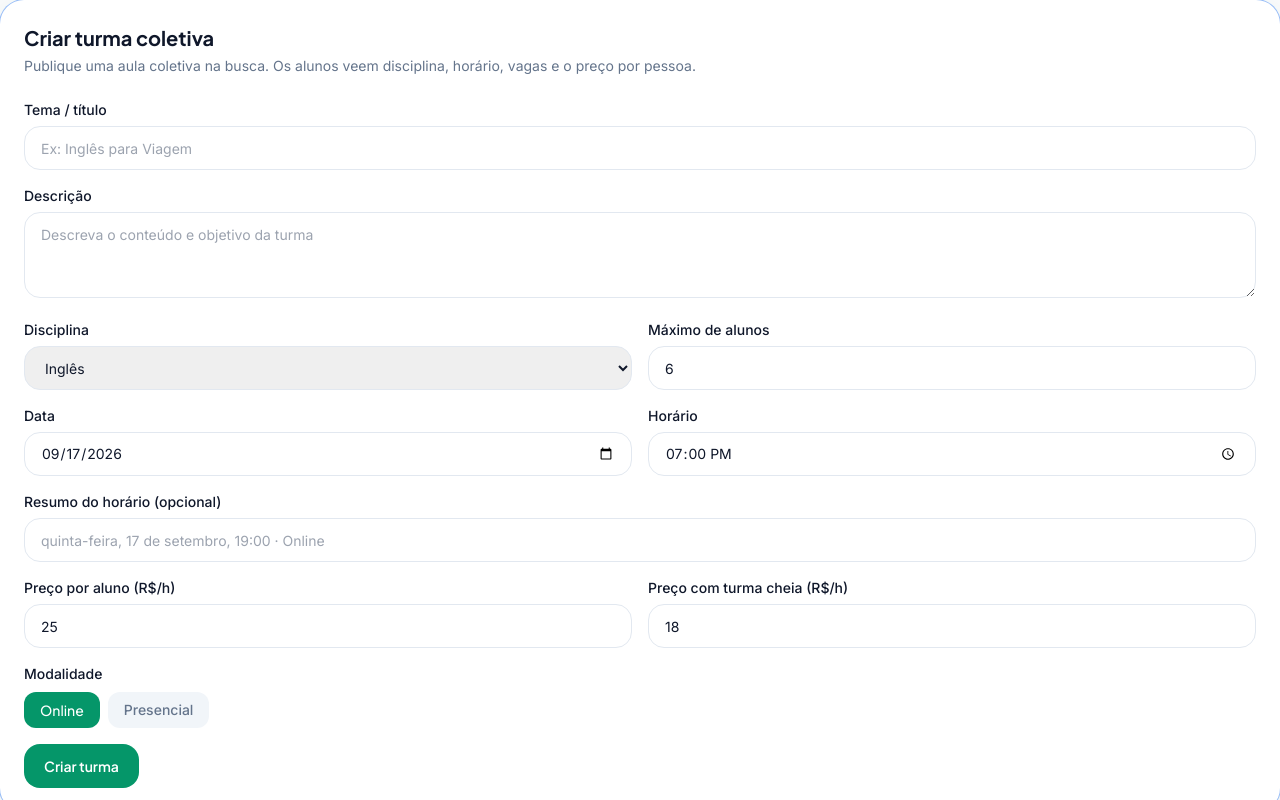
Test case: CreateHubForm › rejects a class size outside the 2–20 range
This screenshot has width=1280, height=800.
Type "Inglês para Viagem" into the field labelled "Tema / título". click: (640, 148)
box: [24,126,1256,170]
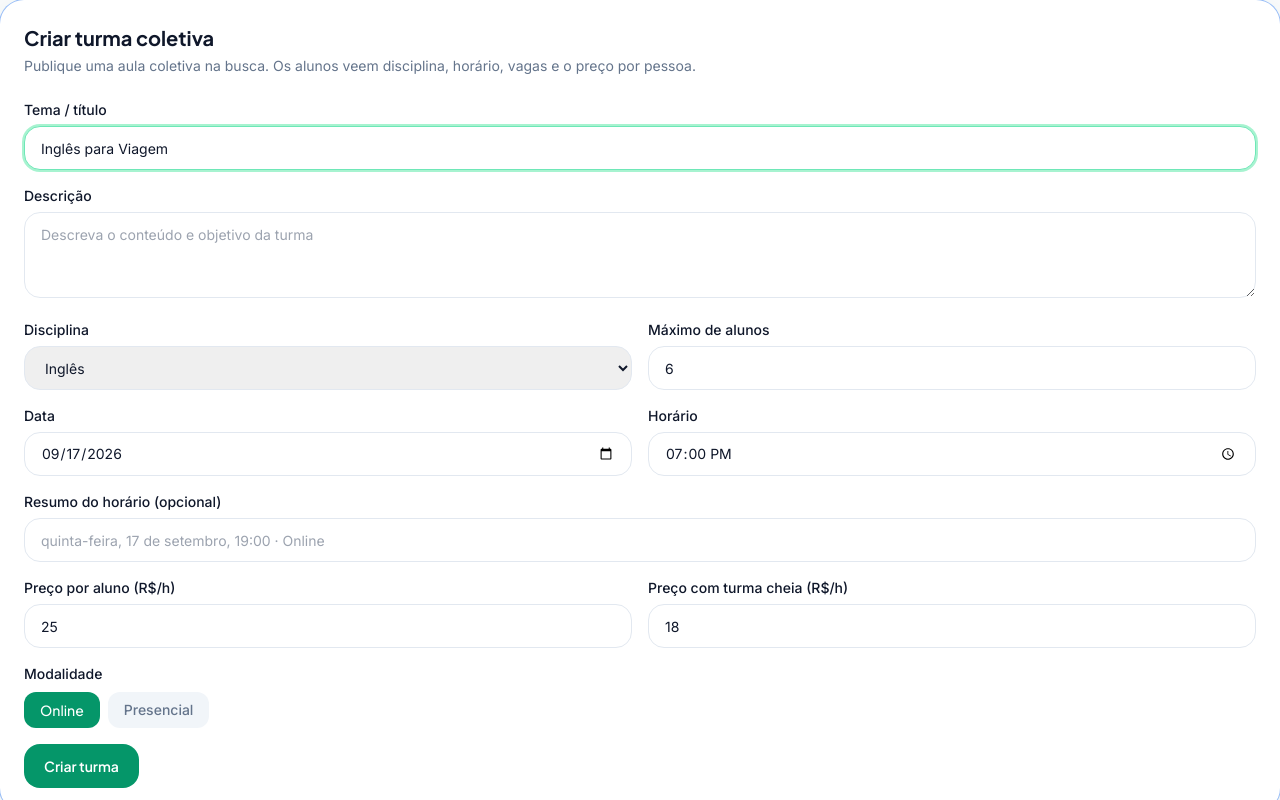
Type "Frases essenciais para aeroporto e hotel." into the text box labelled "Descrição". click: (640, 255)
box: [24,212,1256,298]
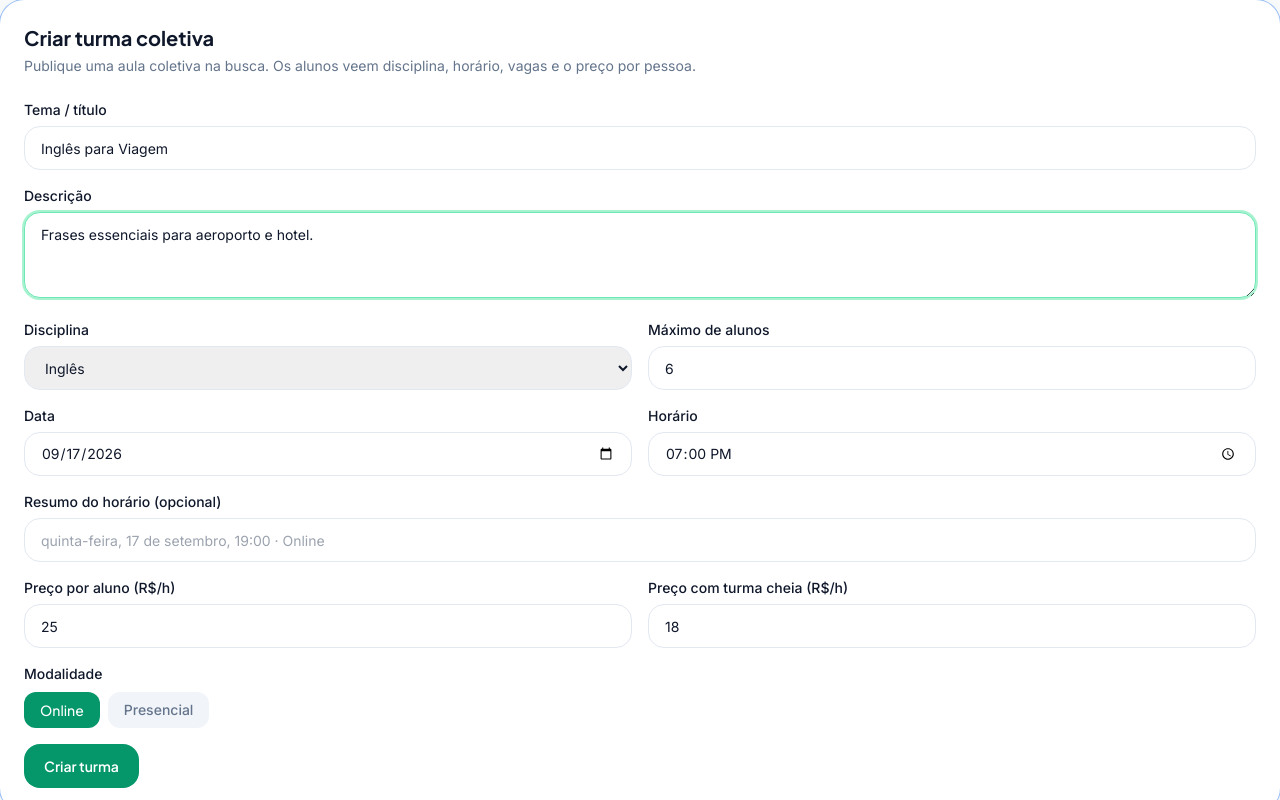
Replace the text in the number field labelled "Máximo de alunos" with "1". click: (952, 368)
box: [648,346,1256,390]
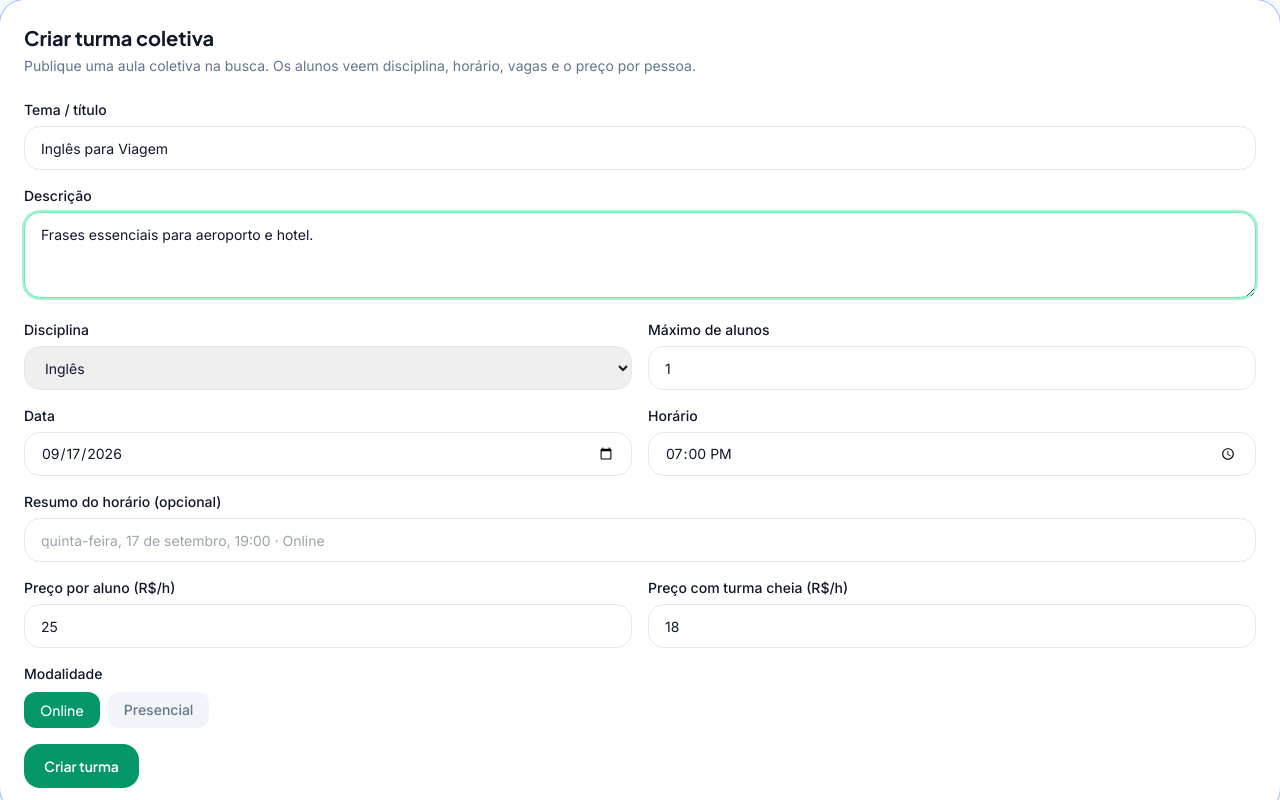
Submit the form named "Criar turma"
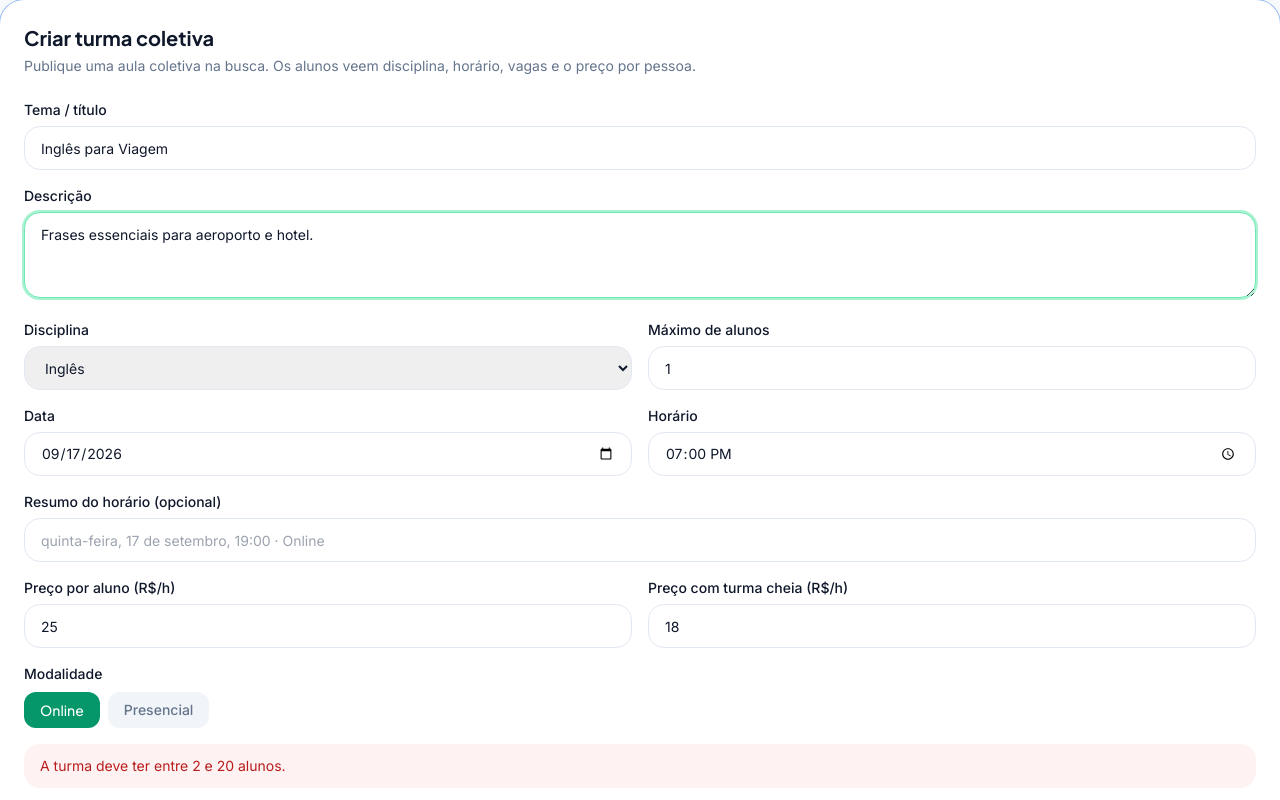
Expected: the message reads "A turma deve ter entre 2 e 20 alunos.", [40,757,286,774]
